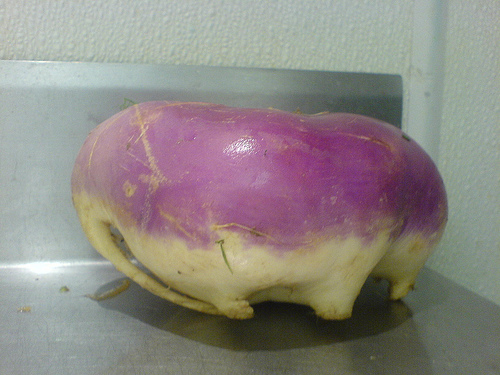turnip: (72, 101, 448, 325)
